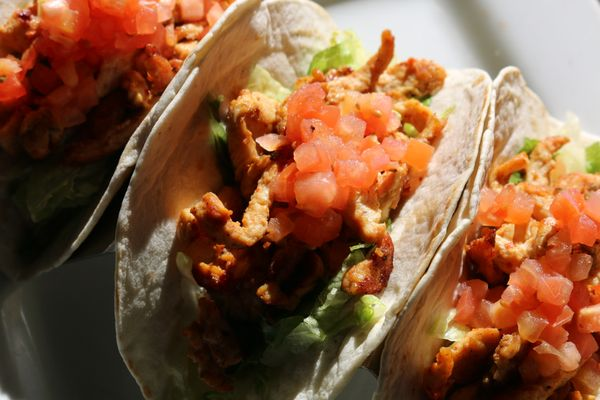burger: (104, 0, 496, 394), (377, 101, 600, 395)
